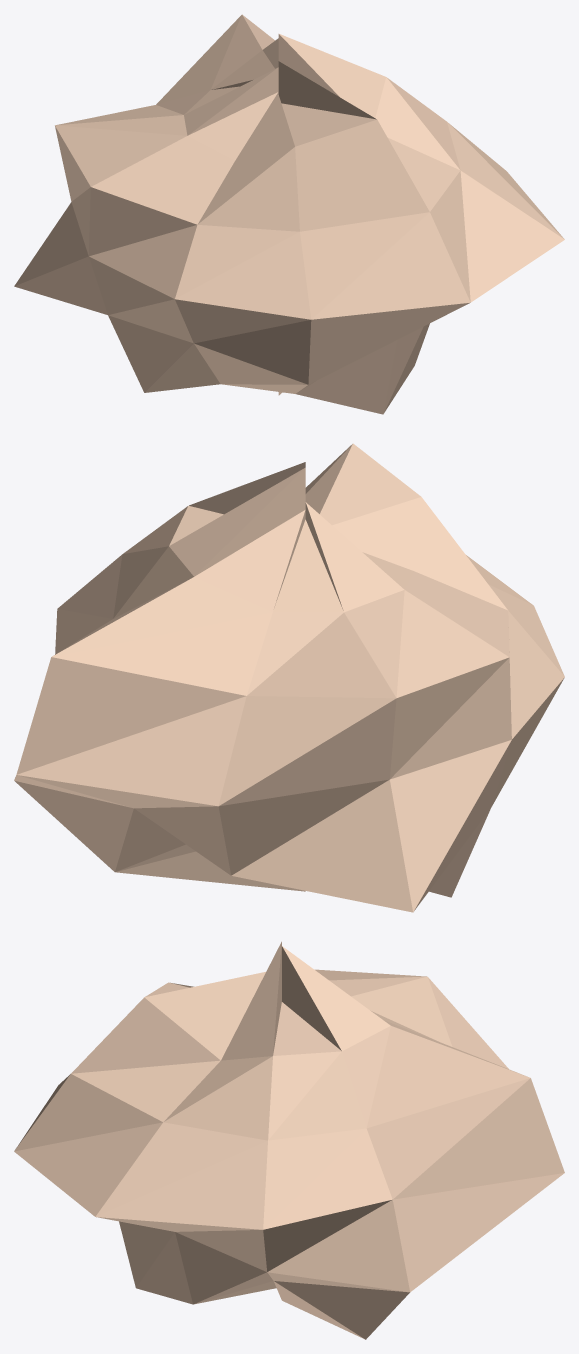
The model's file is rock_028.obj.
The picture shows the model from 3 angles, top to bottom: view 1: azimuth 30°, elevation 25°; view 2: azimuth 150°, elevation 25°; view 3: azimuth 270°, elevation 25°; orthographic projection. The views are drawn at different scales.
Size of the model in its own units: 0.7351 by 0.6353 by 0.8825.
